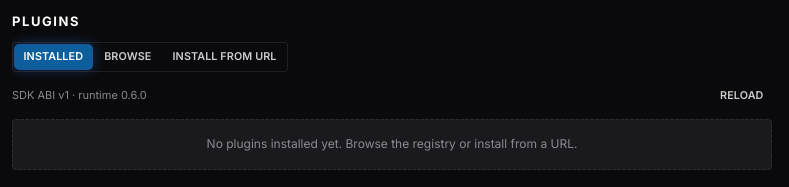
Test case: PluginsPanel — sub-tab routing › switches to the Browse tab on click
Click the tab "BROWSE".
click(128, 57)  # box [96,45,160,69]
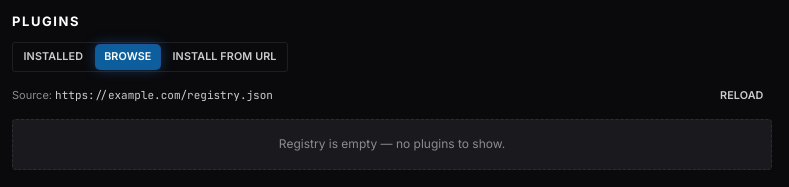
Expected: the element with test id "plugins-browser" is shown, [12,84,772,170]
